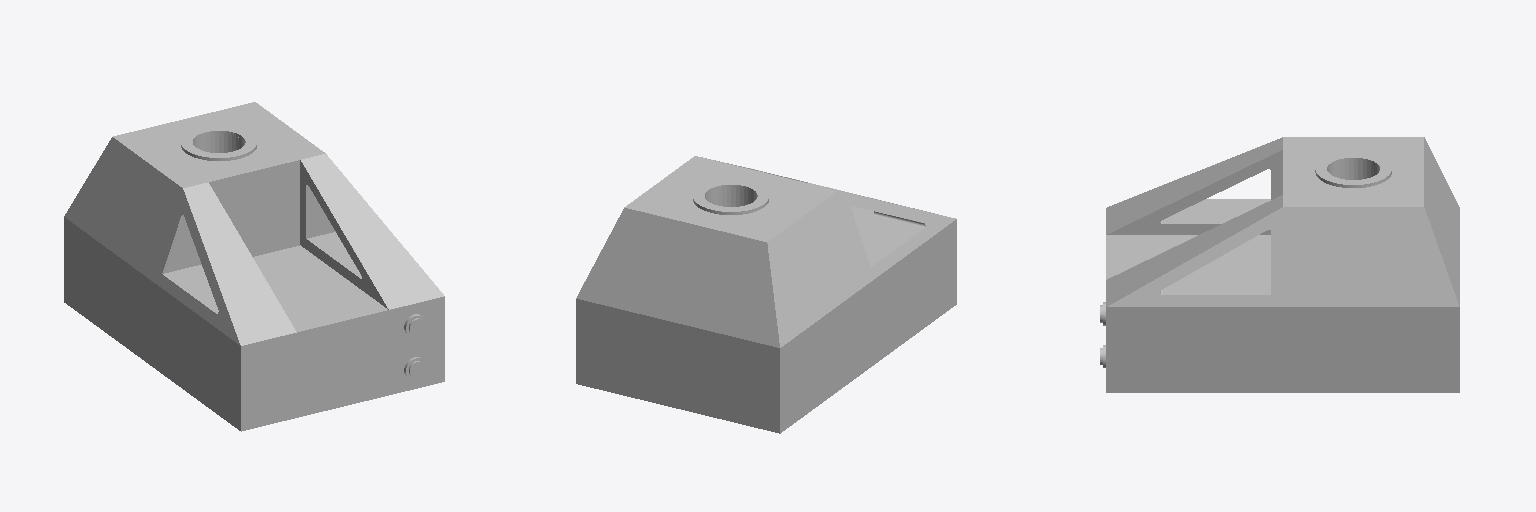
3 views of the same model, side by side, from view 1: azimuth 30°, elevation 25°; view 2: azimuth 150°, elevation 25°; view 3: azimuth 270°, elevation 25° (orthographic).
Parts seen in each view (by area): view 1: base001; view 2: base001; view 3: base001.
Boxes of the visible parts, box(x1,y1,x2,y2) form: base001: box(64, 102, 444, 431); base001: box(576, 156, 956, 433); base001: box(1100, 137, 1459, 392).
Size of the model in its own units: 20 by 16.3 by 30.5.